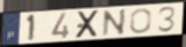1: (24, 14, 36, 43)
3: (157, 6, 178, 34)
4: (50, 11, 72, 41)
N: (102, 8, 128, 37)
O: (128, 7, 153, 35)
X: (74, 9, 102, 40)
